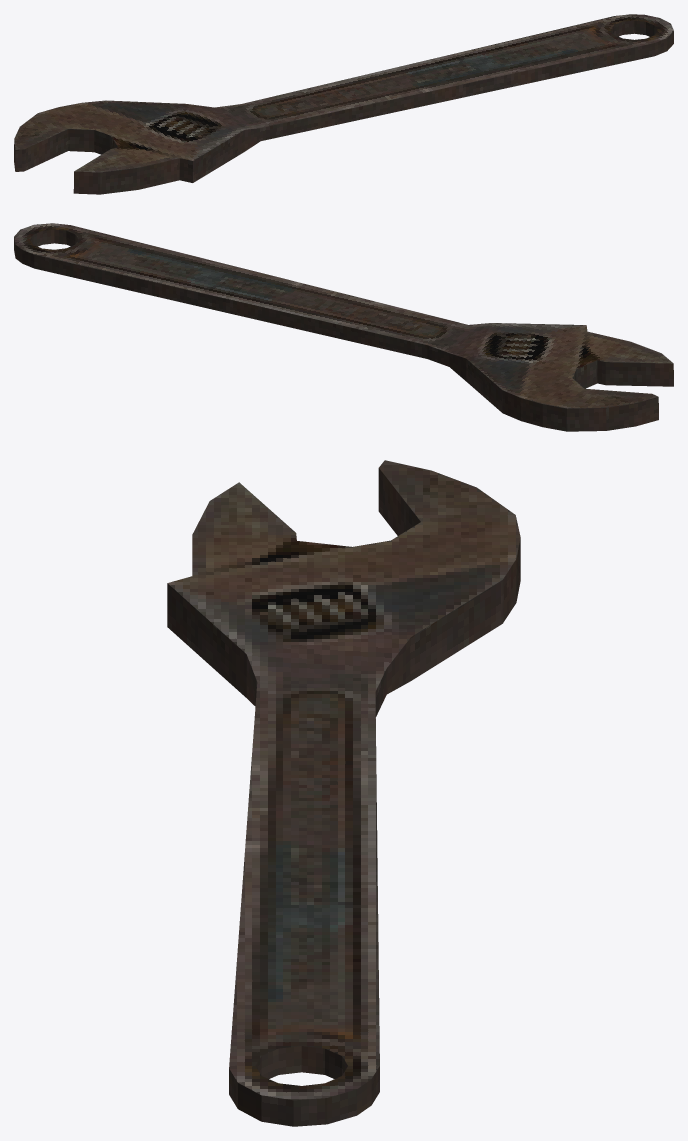
File: wrench_mx_2.glb
3 views of the same model, one above another, from view 1: azimuth 30°, elevation 25°; view 2: azimuth 150°, elevation 25°; view 3: azimuth 270°, elevation 25° (orthographic). The views are drawn at different scales.
Visible parts, largest first — view 1: wrench_mx_2; view 2: wrench_mx_2; view 3: wrench_mx_2.
Part boxes in pixels (left/top/right/bottom): wrench_mx_2: left=14, top=14, right=673, bottom=194; wrench_mx_2: left=14, top=223, right=673, bottom=431; wrench_mx_2: left=167, top=460, right=520, bottom=1126.
Size of the model in its own units: 0.5994 by 0.0223 by 0.1449.
Materials: 1 (1 with a texture image).
